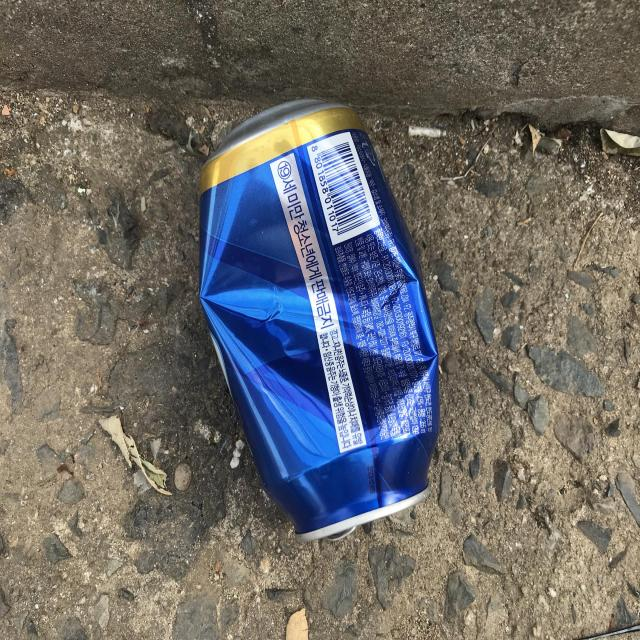can: (199, 98, 440, 541)
